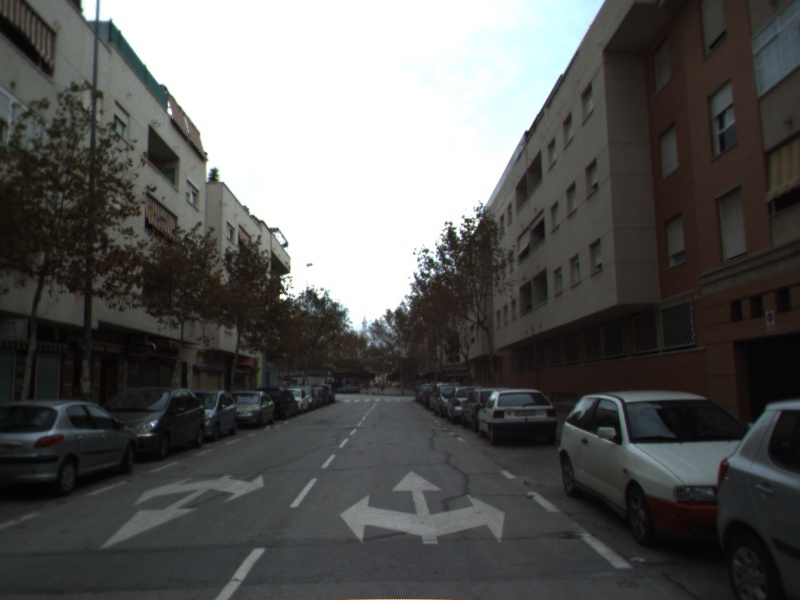STRAIGHT_LEFT_RIGHT: (337, 468, 508, 546)
